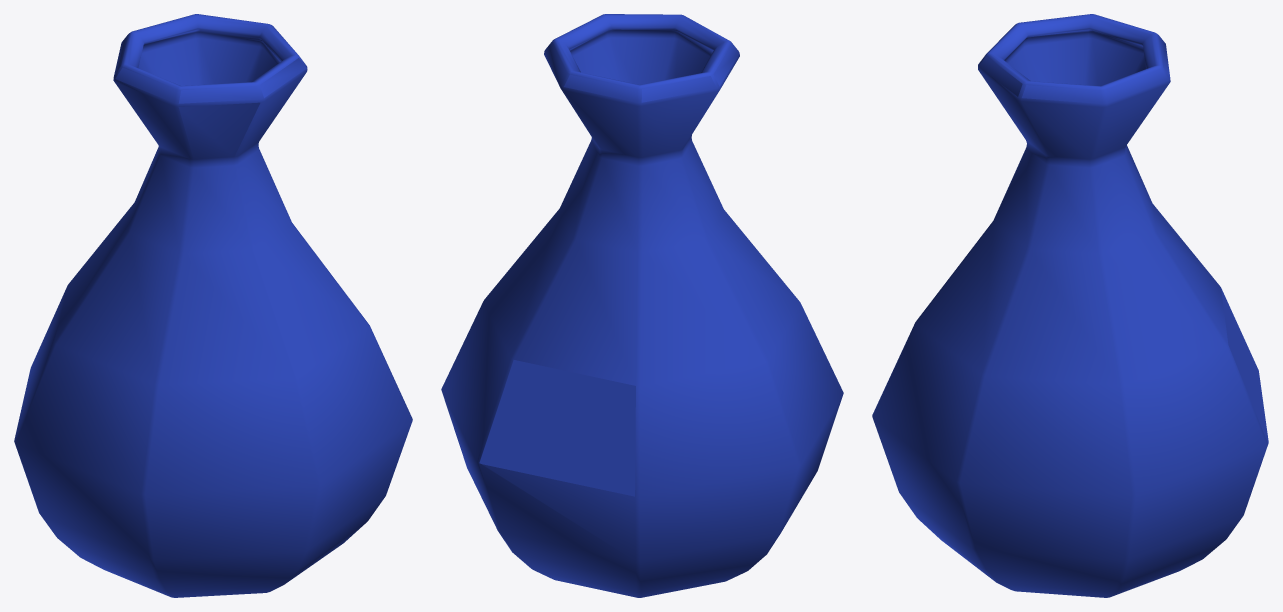
The model's file is MSH_vase.fbx.
3 views of the same model, side by side, from view 1: azimuth 30°, elevation 25°; view 2: azimuth 150°, elevation 25°; view 3: azimuth 270°, elevation 25° (orthographic).
Visible parts, largest first — view 1: pot_low; view 2: pot_low; view 3: pot_low.
Boxes of the visible parts, bbox=[...] form: pot_low: bbox=[14, 14, 412, 597]; pot_low: bbox=[441, 14, 843, 597]; pot_low: bbox=[872, 14, 1268, 597].
Bounding box in the file's own units: 35.11 × 48.63 × 34.7.
